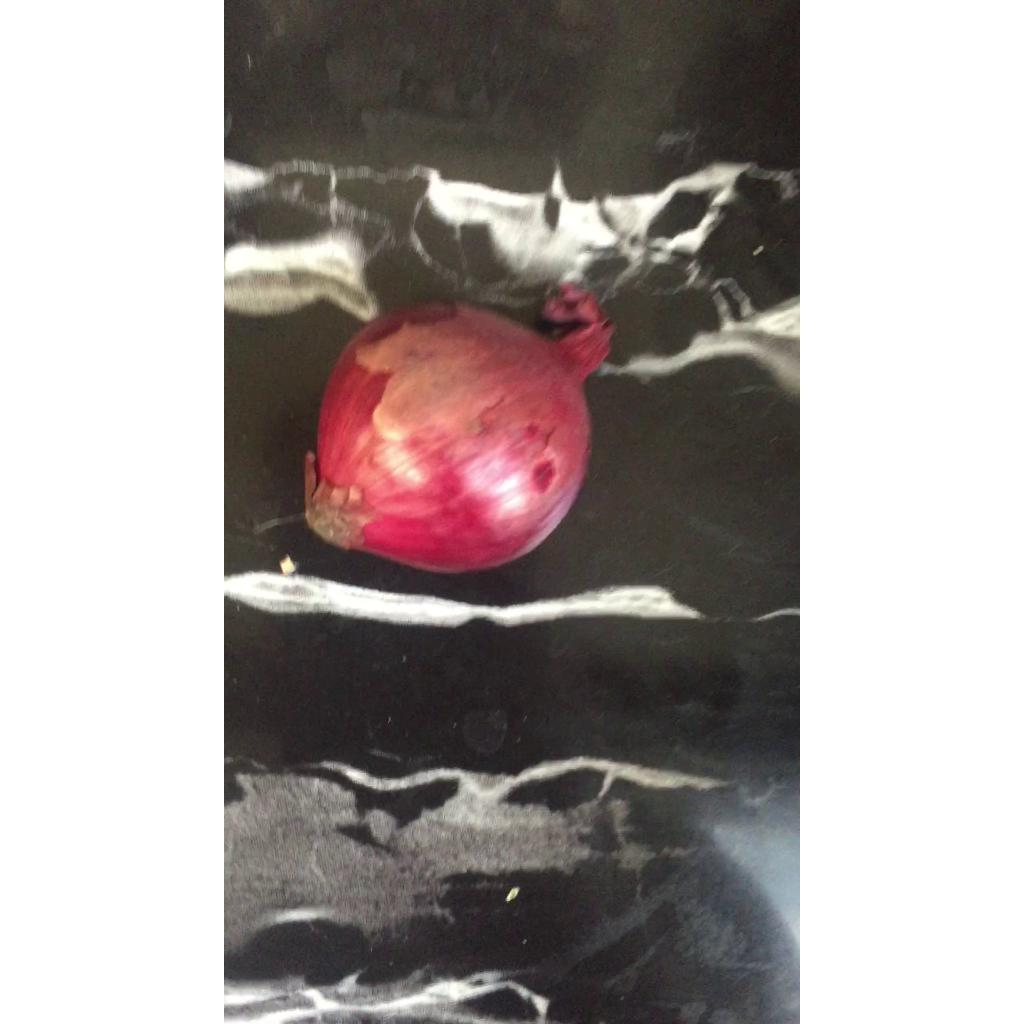Onion: (304, 284, 613, 572)
